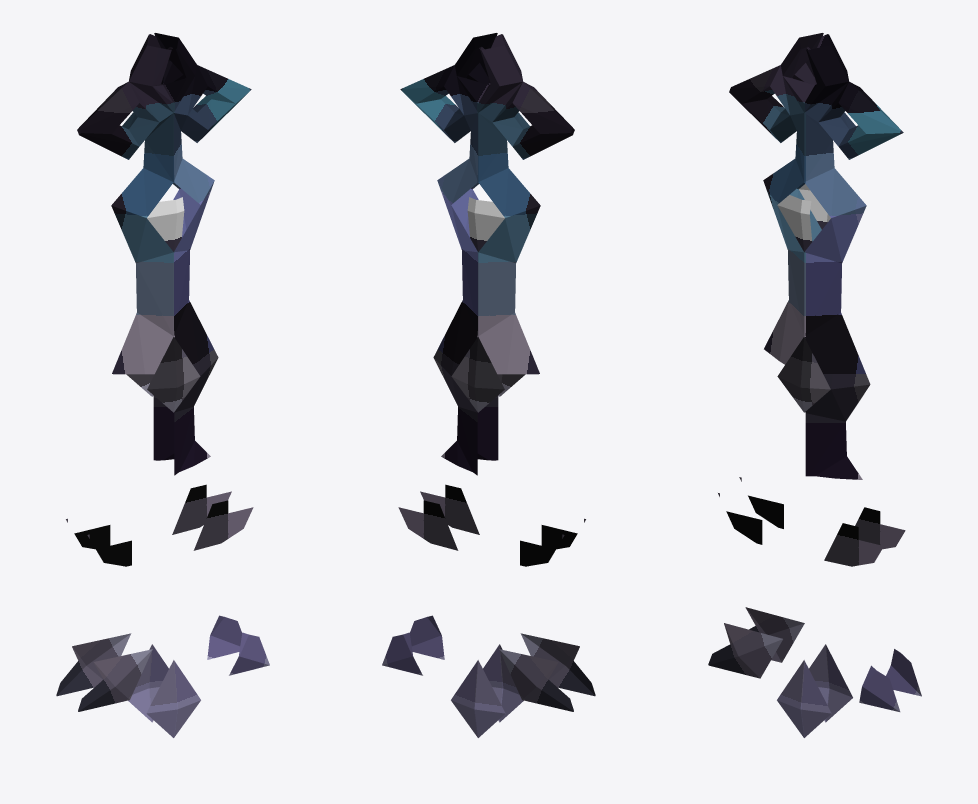
The model's file is harmonics.obj.
3 views of the same model, side by side, from view 1: azimuth 30°, elevation 25°; view 2: azimuth 150°, elevation 25°; view 3: azimuth 330°, elevation 25° (orthographic).
Bounding box in the file's own units: 47.73 × 119 × 8.
